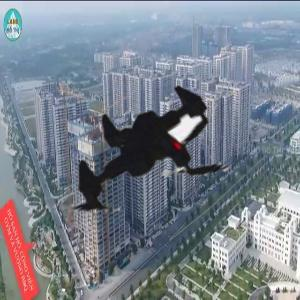drone: (25, 38, 276, 289)
